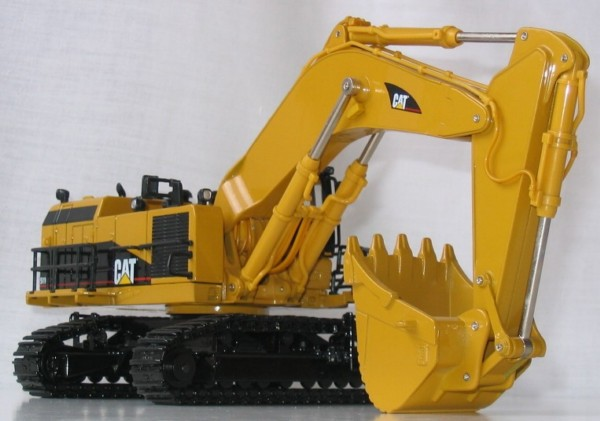backhoe: (10, 9, 583, 410)
